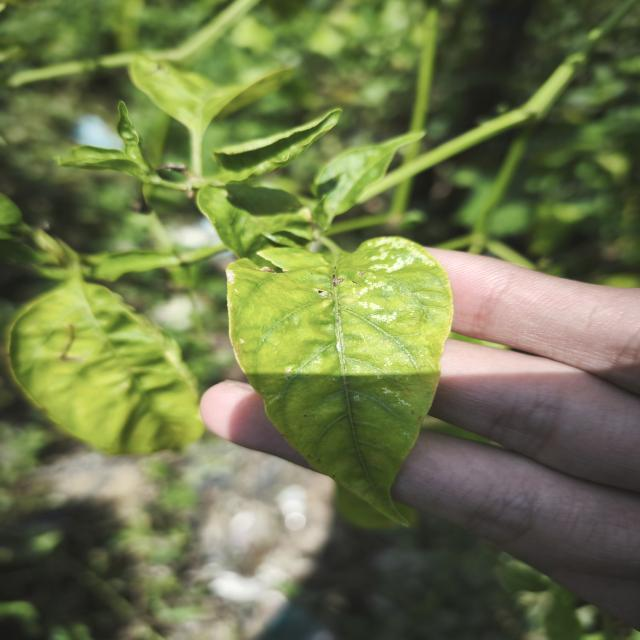Virus Kuning: (224, 234, 456, 528), (5, 278, 205, 460)
